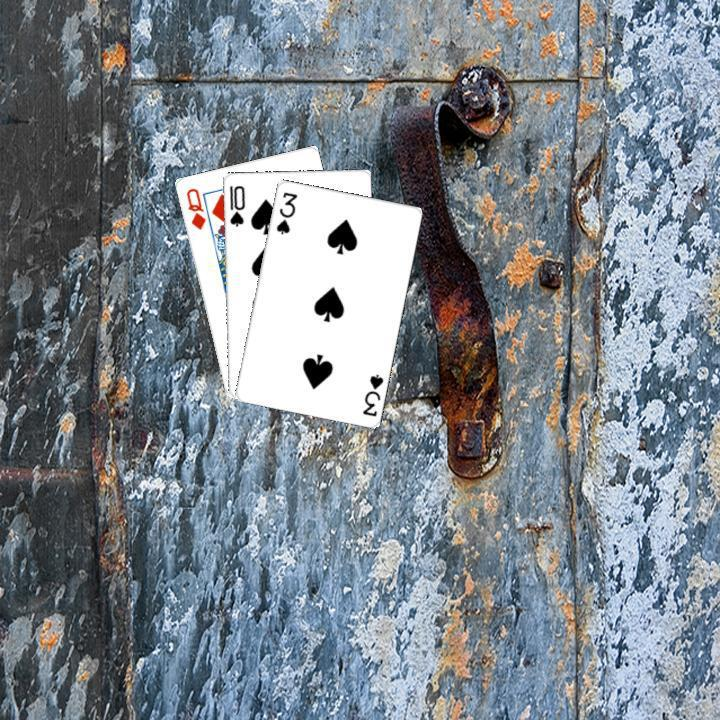10: (225, 181, 246, 228)
3: (271, 187, 299, 236), (358, 369, 385, 418)
Q: (181, 184, 207, 232)
